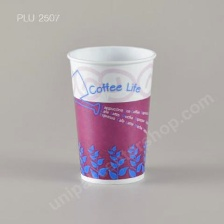paper_cup: (60, 40, 161, 188)
